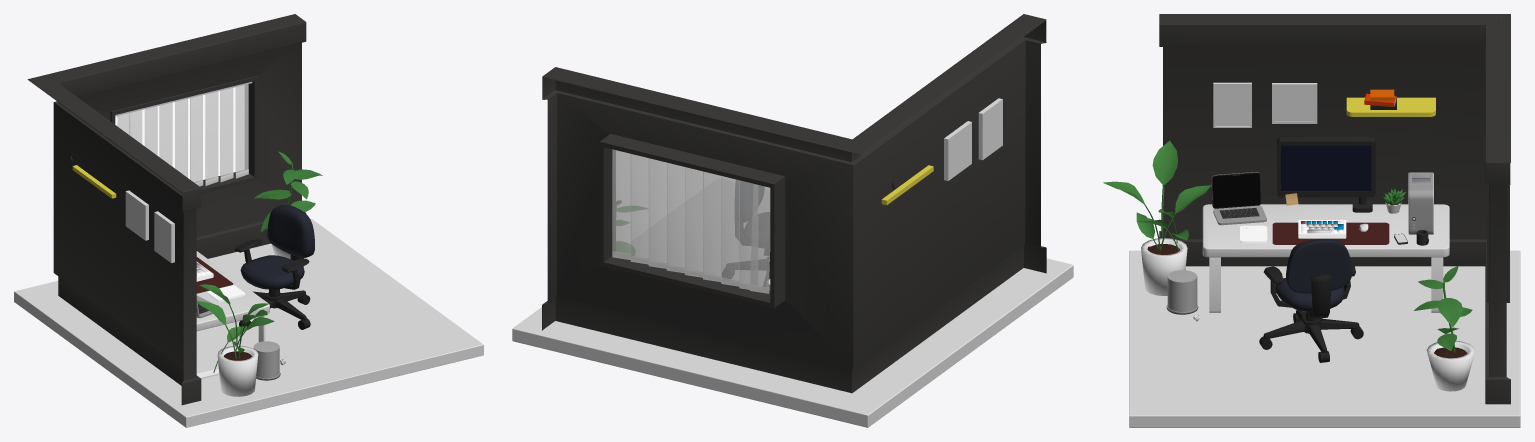
File: NoTextureModel2.gltf
3 renders of one model, left to right at view 1: azimuth 30°, elevation 25°; view 2: azimuth 150°, elevation 25°; view 3: azimuth 270°, elevation 25°, orthographic. The views are drawn at different scales.
Visible parts, largest first — view 1: Base Cube, Floor 1, Curtain, Window Base.001, Cube.031, Table Top, Circle.001, Plane.006, Wallpaper 2, Wallpaper 1, Cylinder, Cube.029 (+2 smaller); view 2: Base Cube, Floor 1, Curtain, Window Base.001, Wallpaper 2, Wallpaper 1, Cube.031; view 3: Base Cube, Floor 1, Table Top, LG Screen, Cube.031, Wallpaper 2, Wallpaper 1, Circle.001, Cube.019, Desk Mat, Circle.021, CPU (+17 smaller).
Boxes of the visible parts, x1,y1,x2,y2 form: Base Cube: (27, 14, 306, 405); Floor 1: (14, 219, 483, 427); Curtain: (117, 84, 248, 186); Window Base.001: (110, 76, 258, 193); Cube.031: (267, 204, 314, 257); Table Top: (196, 251, 269, 331); Circle.001: (217, 346, 258, 396); Plane.006: (240, 255, 304, 289); Wallpaper 2: (125, 190, 148, 240); Wallpaper 1: (154, 211, 174, 262); Cylinder: (253, 341, 280, 380); Cube.029: (234, 239, 309, 289); Base Cube: (542, 14, 1046, 393); Floor 1: (512, 179, 1073, 427); Curtain: (612, 149, 770, 293); Window Base.001: (599, 134, 785, 307); Wallpaper 2: (944, 121, 971, 180); Wallpaper 1: (978, 98, 1002, 160); Cube.031: (735, 180, 763, 221); Base Cube: (1159, 14, 1510, 404); Floor 1: (1129, 250, 1520, 427); Table Top: (1202, 204, 1449, 257); LG Screen: (1277, 137, 1375, 197); Cube.031: (1286, 238, 1351, 293); Wallpaper 2: (1272, 83, 1317, 123); Wallpaper 1: (1213, 82, 1251, 127); Circle.001: (1141, 238, 1187, 295); Cube.019: (1211, 172, 1261, 208); Desk Mat: (1272, 222, 1389, 244); Circle.021: (1426, 340, 1475, 391); CPU: (1408, 172, 1433, 234).
Bounding box in the file's own units: 7.93 × 5.69 × 8.48.
